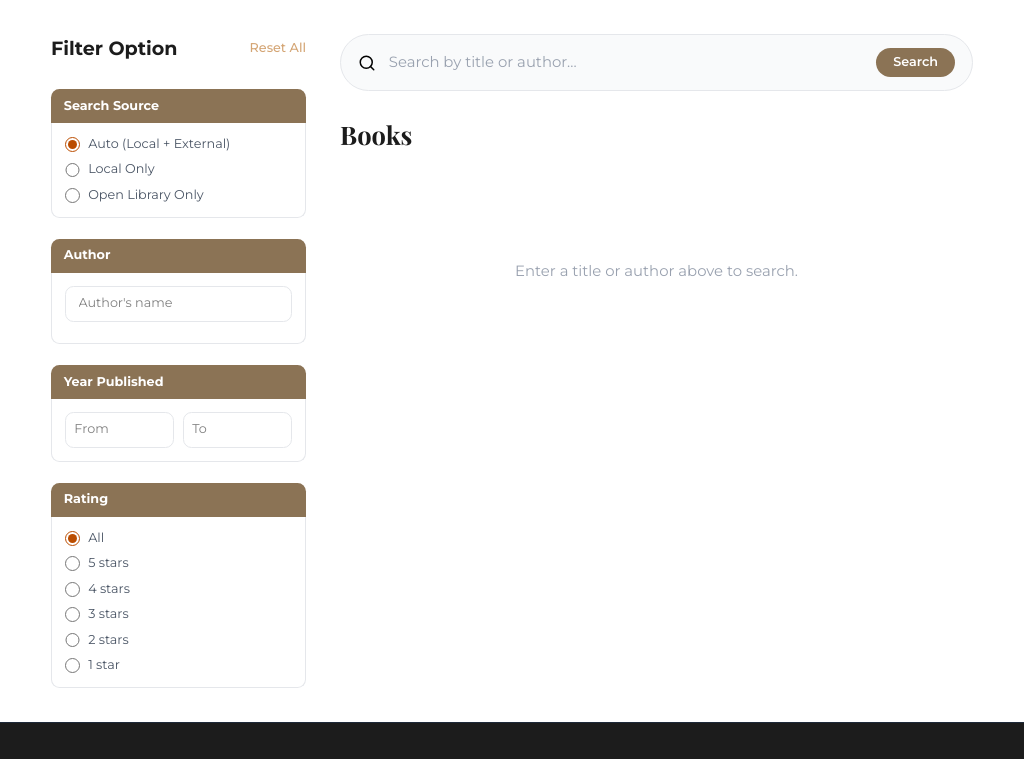
Test: SearchPage › search form › clears the input when the clear button is clicked
The image size is (1024, 759).
Type "gatsby" into the field named "Search books". click: [626, 63]
box: [389,52,864,73]
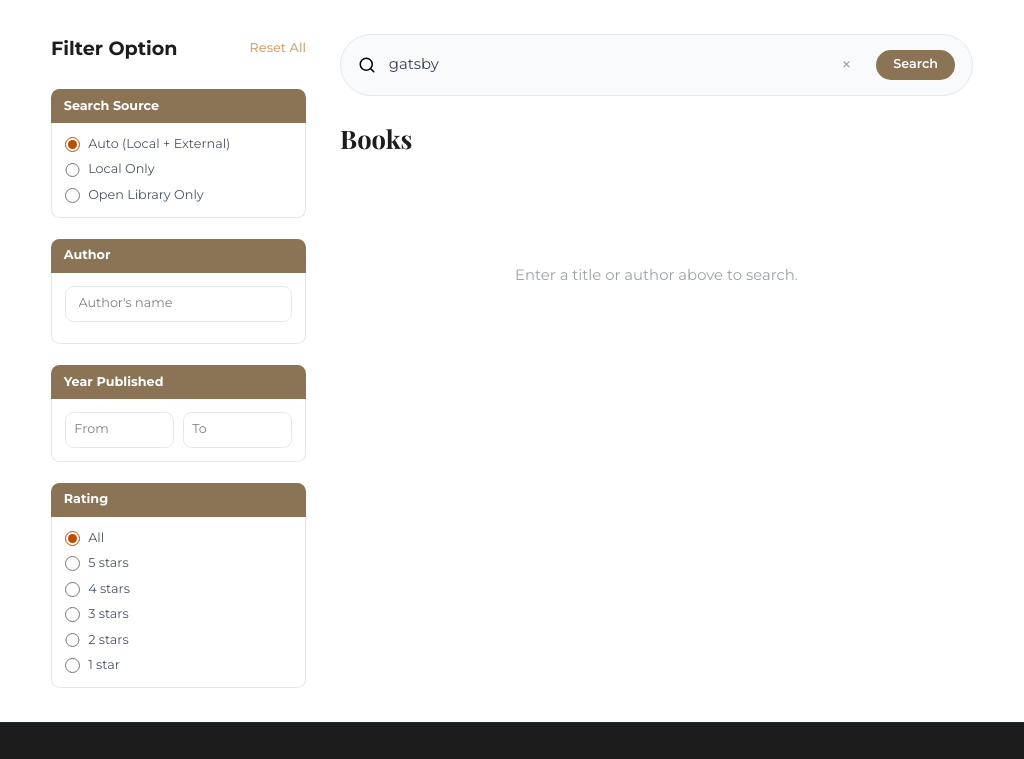
Click the button named "Clear search". click: [846, 65]
box: [829,48,863,82]
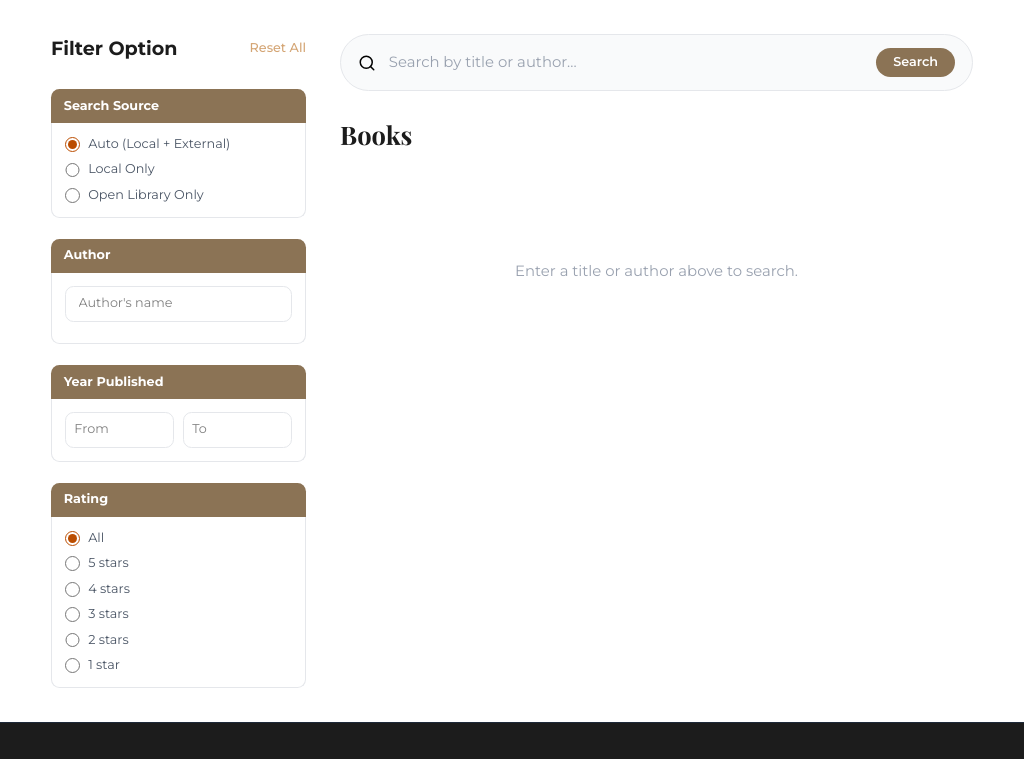
Expected: the field named "Search books" is empty, [389,52,864,73]
